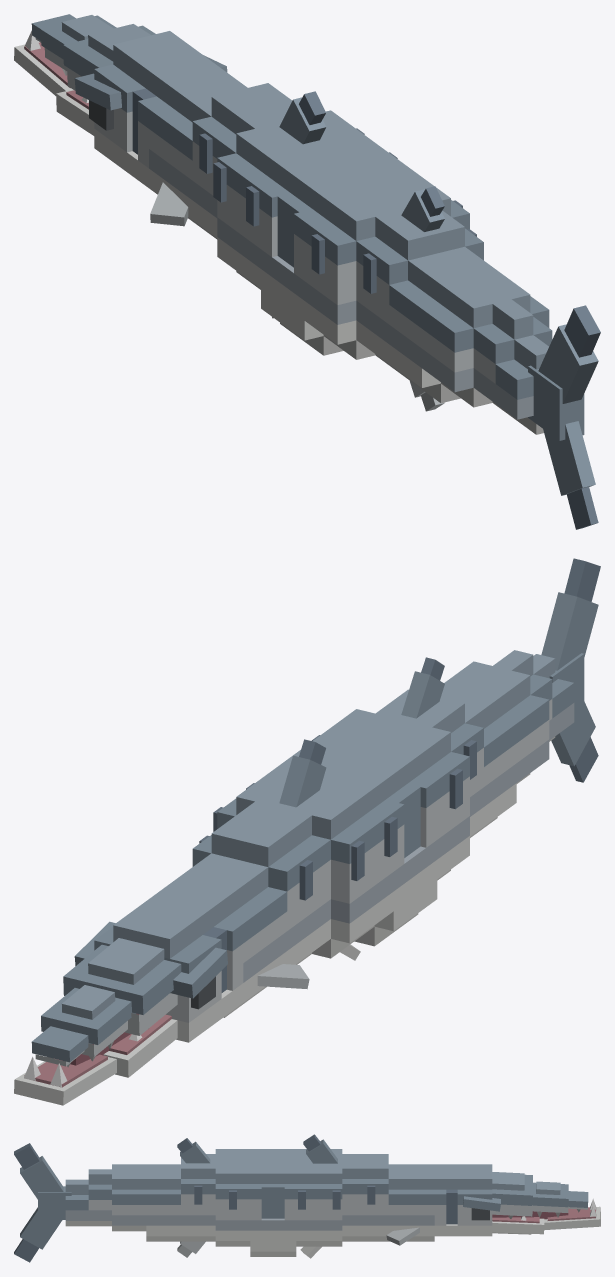
File: Barracuda.glb
3 renders of one model, top to bottom at view 1: azimuth 30°, elevation 25°; view 2: azimuth 150°, elevation 25°; view 3: azimuth 270°, elevation 25°, orthographic. The views are drawn at different scales.
Parts seen in each view (by area): view 1: S4, Head, S5, S1, S3, S2, Tail, S6; view 2: Head, S1, S2, S4, S3, S5, Tail, S6; view 3: Head, S1, S4, S3, S5, S2, Tail, S6.
Part boxes in pixels (<box>): S4: <box>304,174,483,411</box>; Head: <box>14,14,227,187</box>; S5: <box>389,246,549,407</box>; S1: <box>149,71,292,239</box>; S3: <box>261,142,417,355</box>; S2: <box>213,91,397,318</box>; Tail: <box>528,305,600,529</box>; S6: <box>473,299,552,434</box>; Head: <box>14,885,243,1105</box>; S1: <box>168,801,330,1017</box>; S2: <box>213,739,397,960</box>; S4: <box>311,657,483,880</box>; S3: <box>280,733,437,946</box>; S5: <box>441,661,549,837</box>; Tail: <box>541,558,600,782</box>; S6: <box>493,650,574,741</box>; Head: <box>434,1164,600,1236</box>; S1: <box>342,1154,434,1245</box>; S4: <box>177,1138,250,1257</box>; S3: <box>250,1149,296,1256</box>; S5: <box>112,1164,180,1241</box>; S2: <box>296,1134,342,1258</box>; Tail: <box>14,1143,71,1262</box>; S6: <box>65,1169,111,1226</box>.
Size of the model in its own units: 3.37 by 4.82 by 20.36.
